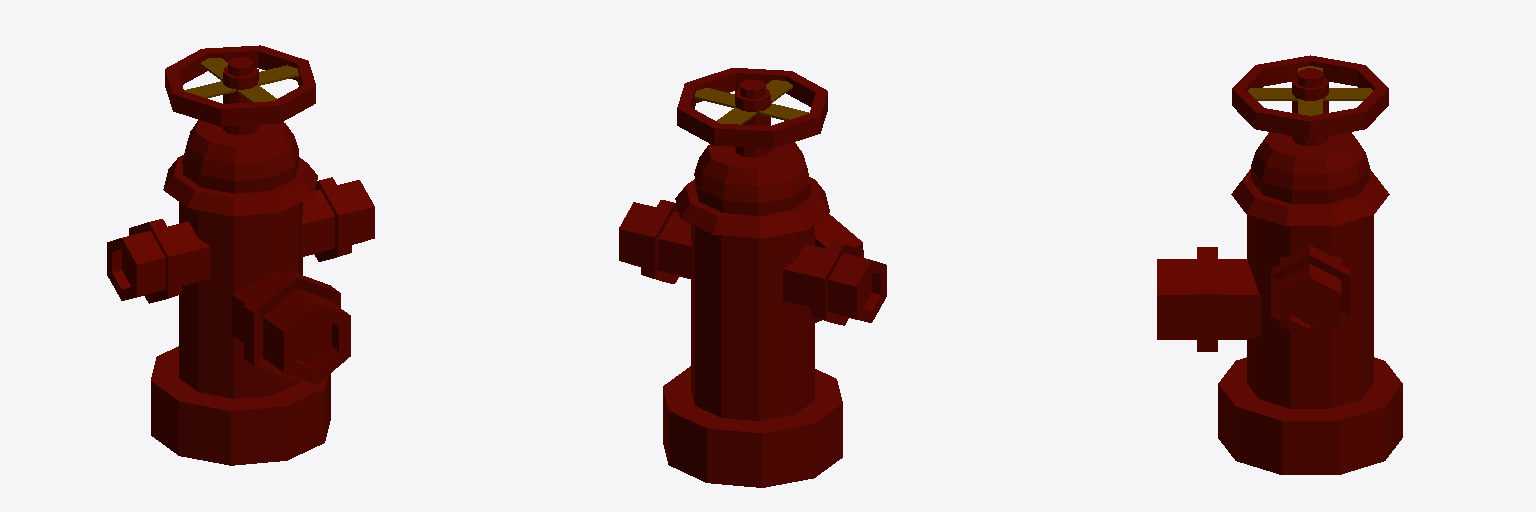
File: Hidrant_01.obj
The picture shows the model from 3 angles: view 1: azimuth 30°, elevation 25°; view 2: azimuth 150°, elevation 25°; view 3: azimuth 270°, elevation 25°; orthographic projection.
Parts seen in each view (by area): view 1: Hidrant_01_Cylinder.010; view 2: Hidrant_01_Cylinder.010; view 3: Hidrant_01_Cylinder.010.
Boxes of the visible parts, x1,y1,x2,y2 form: Hidrant_01_Cylinder.010: [107, 45, 374, 465]; Hidrant_01_Cylinder.010: [619, 68, 886, 487]; Hidrant_01_Cylinder.010: [1157, 55, 1402, 474].
Size of the model in its own units: 2.84 by 4.16 by 2.54.